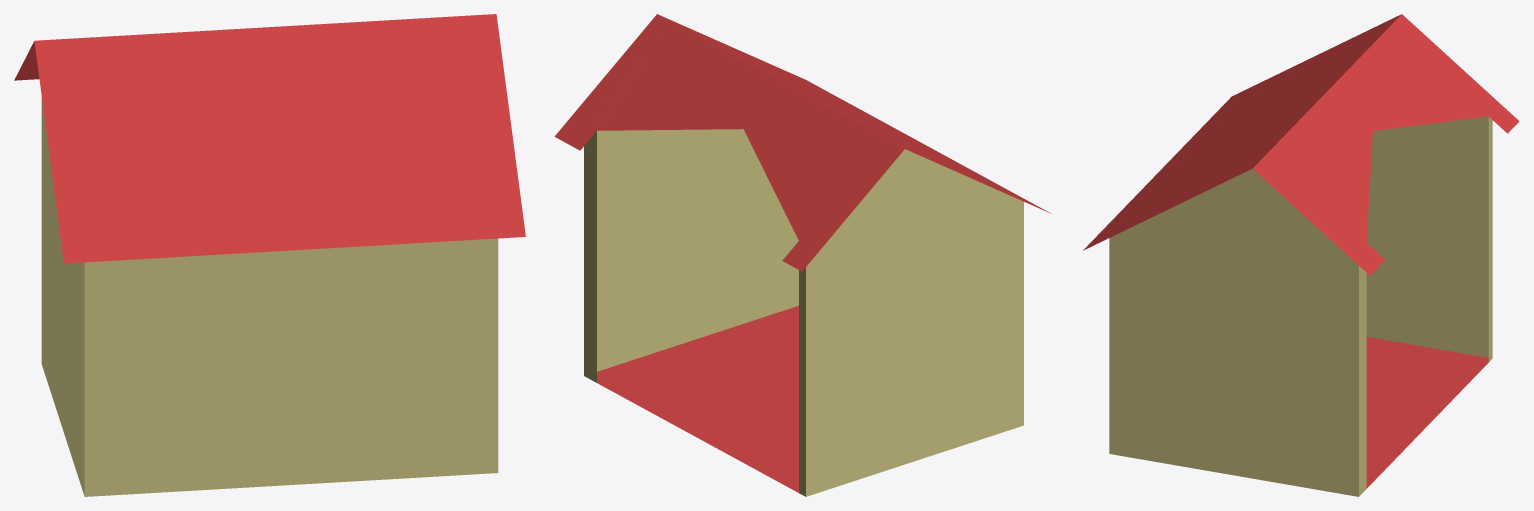
The picture shows the model from 3 angles, left to right: view 1: azimuth 30°, elevation 25°; view 2: azimuth 150°, elevation 25°; view 3: azimuth 270°, elevation 25°; orthographic projection. The views are drawn at different scales.
Size of the model in its own units: 17.54 by 15.87 by 12.79.
